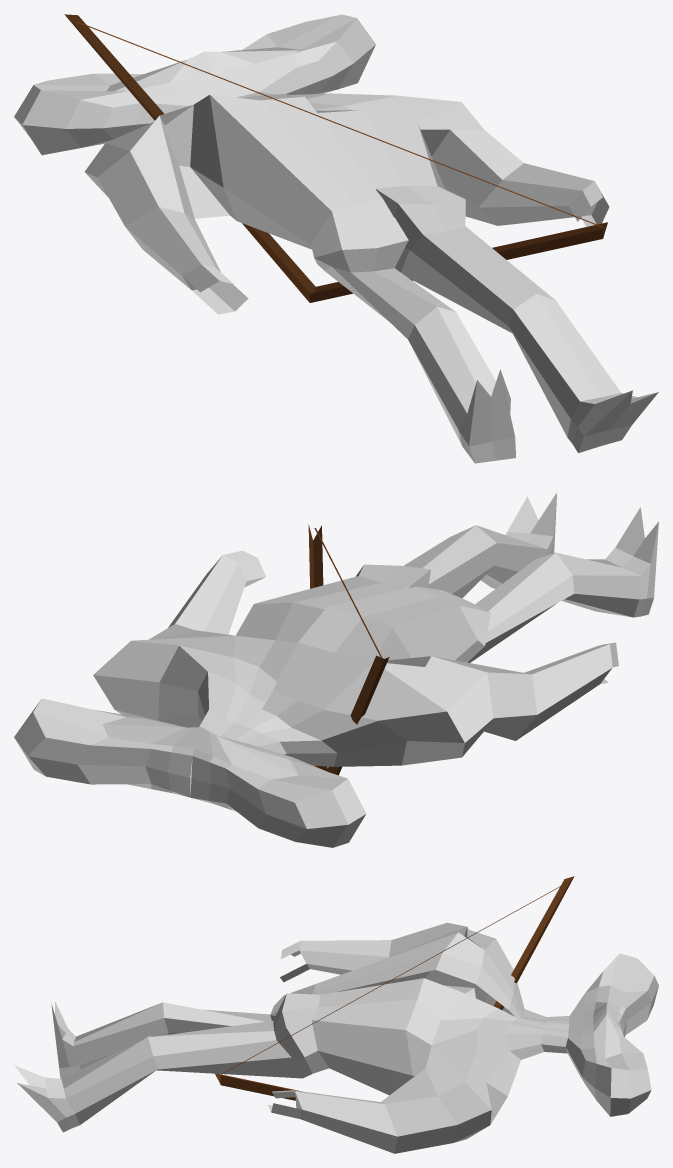
The model's file is Archer3d.obj.
3 views of the same model, one above another, from view 1: azimuth 30°, elevation 25°; view 2: azimuth 150°, elevation 25°; view 3: azimuth 270°, elevation 25° (orthographic). The views are drawn at different scales.
Parts seen in each view (by area): view 1: Cube, Plane.001_Bow; view 2: Cube, Plane.001_Bow; view 3: Cube, Plane.001_Bow.
Part boxes in pixels (x1,y1,x2,y2): Cube: (14, 14, 658, 463); Plane.001_Bow: (64, 14, 607, 302); Cube: (14, 493, 658, 847); Plane.001_Bow: (308, 524, 389, 775); Cube: (14, 922, 658, 1153); Plane.001_Bow: (214, 876, 574, 1100).
Size of the model in its own units: 0.8869 by 0.5351 by 1.59.
